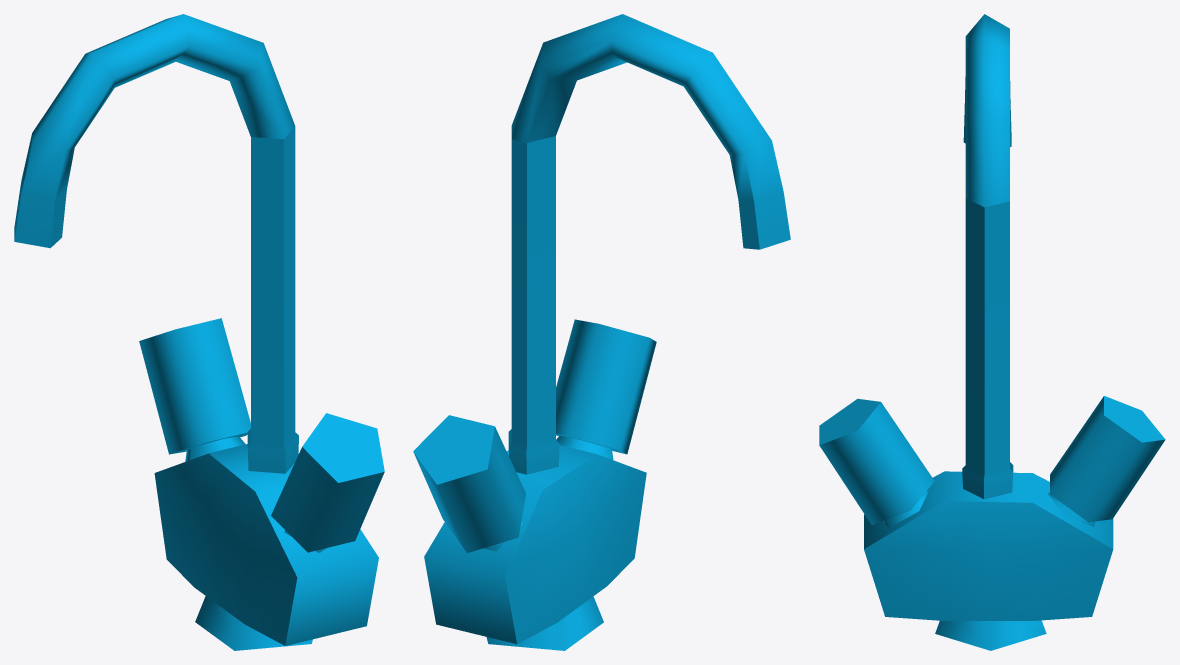
The model's file is Cupboard_Sink_Faucet_Lod1.fbx.
The picture shows the model from 3 angles, left to right: view 1: azimuth 30°, elevation 25°; view 2: azimuth 150°, elevation 25°; view 3: azimuth 270°, elevation 25°; orthographic projection. The views are drawn at different scales.
Visible parts, largest first — view 1: Cupboard_Sink_Faucet_Lod1; view 2: Cupboard_Sink_Faucet_Lod1; view 3: Cupboard_Sink_Faucet_Lod1.
Boxes of the visible parts, <box> form: Cupboard_Sink_Faucet_Lod1: <box>14,14,384,650</box>; Cupboard_Sink_Faucet_Lod1: <box>413,14,790,650</box>; Cupboard_Sink_Faucet_Lod1: <box>819,14,1165,650</box>.
Bounding box in the file's own units: 18.96 × 37.09 × 21.04.
